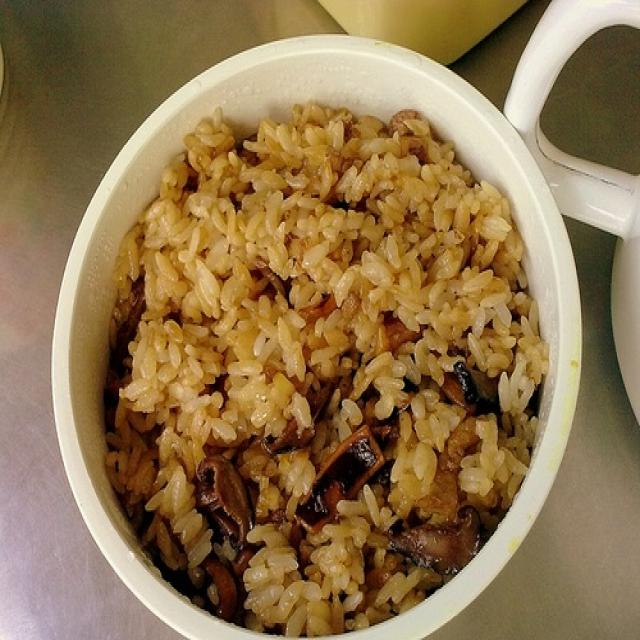米饭主食: (58, 43, 580, 623)
